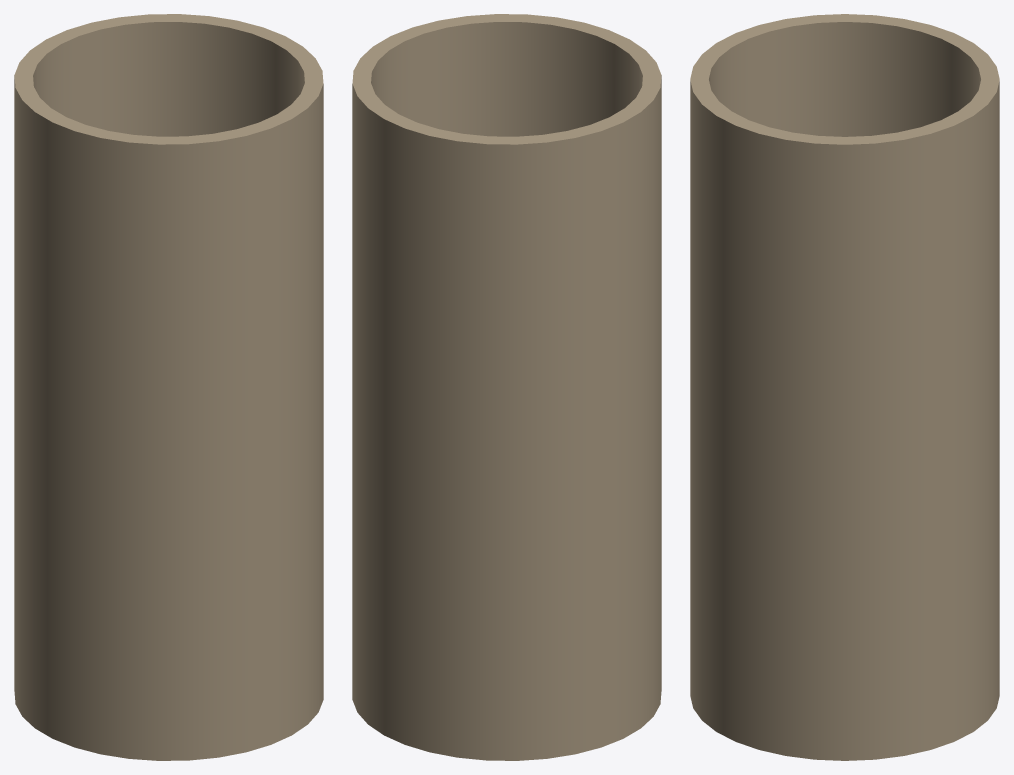
The model's file is tolet_empty.glb.
The picture shows the model from 3 angles, left to right: view 1: azimuth 30°, elevation 25°; view 2: azimuth 150°, elevation 25°; view 3: azimuth 270°, elevation 25°; orthographic projection.
Visible parts, largest first — view 1: papaer_empty; view 2: papaer_empty; view 3: papaer_empty.
Boxes of the visible parts, bbox=[...] form: papaer_empty: bbox=[14, 14, 323, 760]; papaer_empty: bbox=[352, 14, 661, 760]; papaer_empty: bbox=[690, 14, 999, 760].
Bounding box in the file's own units: 0.9148 × 2.01 × 0.9148.
